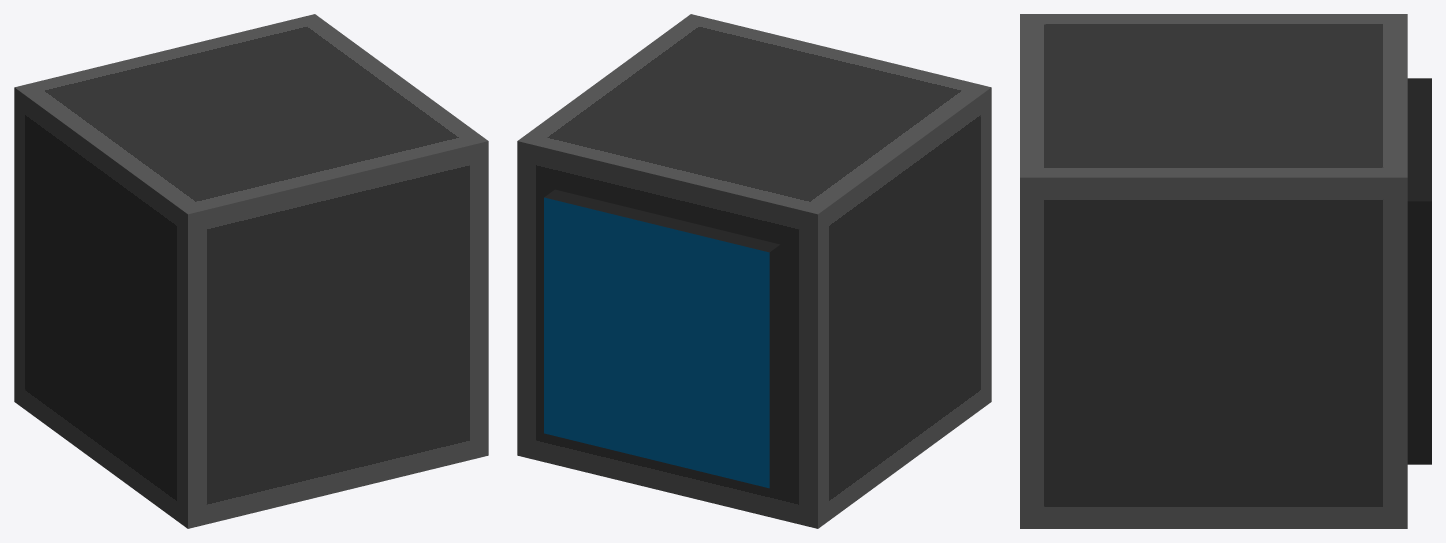
File: magnet.obj
The picture shows the model from 3 angles, left to right: view 1: azimuth 30°, elevation 25°; view 2: azimuth 150°, elevation 25°; view 3: azimuth 270°, elevation 25°; orthographic projection. The views are drawn at different scales.
Parts seen in each view (by area): view 1: cube; view 2: cube; view 3: cube.
Part boxes in pixels (x1=…): cube: x1=14, y1=14, x2=488, y2=528; cube: x1=517, y1=14, x2=991, y2=528; cube: x1=1020, y1=14, x2=1431, y2=528.
Bounding box in the file's own units: 1 × 1 × 1.06.
1 material, 1 textured.
